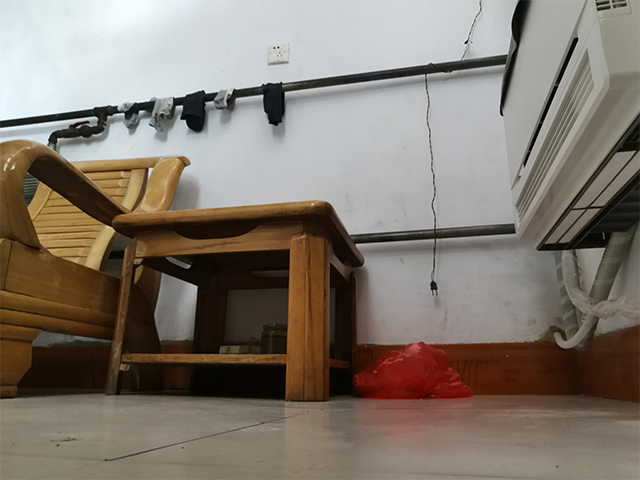stool: (1, 138, 193, 400)
table: (102, 197, 366, 403)
wire: (420, 78, 439, 296)
